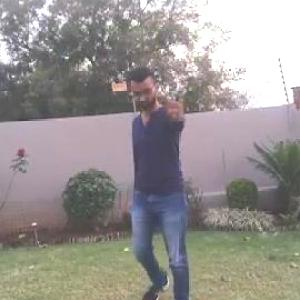takeoff-hand: (161, 80, 195, 130)
